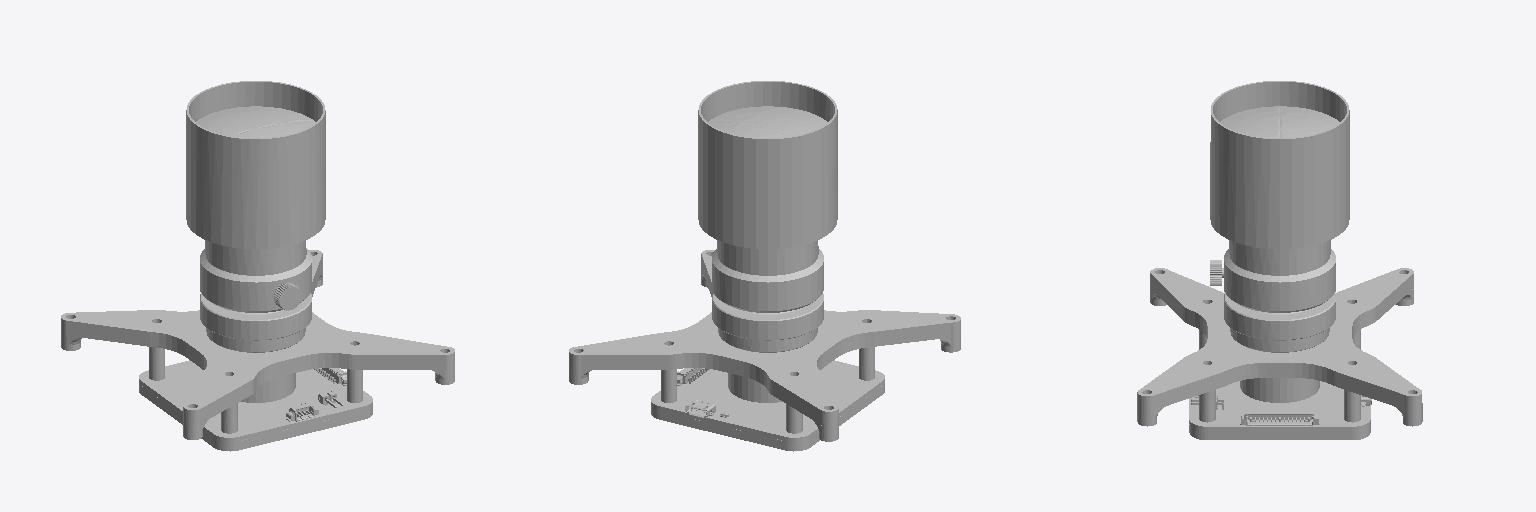
The model's file is Payload.obj.
3 renders of one model, left to right at view 1: azimuth 30°, elevation 25°; view 2: azimuth 150°, elevation 25°; view 3: azimuth 270°, elevation 25°, orthographic.
Parts seen in each view (by area): view 1: gs-3dcad-nanocam-c1u-70mm-8/SOLID; view 2: gs-3dcad-nanocam-c1u-70mm-8/SOLID; view 3: gs-3dcad-nanocam-c1u-70mm-8/SOLID.
Part boxes in pixels (x1,y1,x2,y2): gs-3dcad-nanocam-c1u-70mm-8/SOLID: (61,81,454,451); gs-3dcad-nanocam-c1u-70mm-8/SOLID: (569,81,960,451); gs-3dcad-nanocam-c1u-70mm-8/SOLID: (1137,81,1422,439).
Bounding box in the file's own units: 91.73 × 97.22 × 86.01.